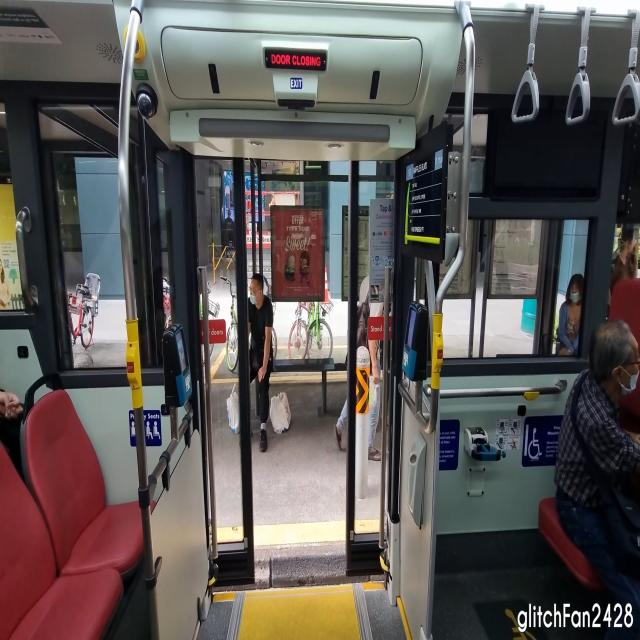bus-door: (195, 158, 255, 584), (346, 162, 394, 576)
